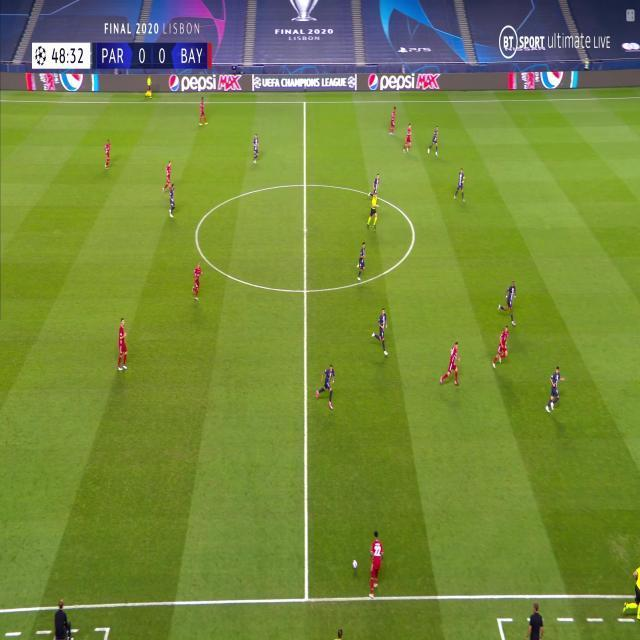ball: (353, 558, 358, 571)
player: (366, 530, 385, 599), (439, 341, 461, 388), (316, 362, 337, 410), (545, 365, 565, 413), (497, 280, 517, 326), (371, 308, 389, 357), (493, 325, 511, 368), (116, 318, 130, 372), (191, 262, 204, 300), (453, 167, 466, 201), (356, 240, 367, 278), (427, 126, 439, 156), (162, 161, 172, 194), (403, 123, 413, 154), (369, 172, 381, 197), (388, 106, 398, 136), (103, 138, 112, 171), (168, 184, 176, 219), (199, 97, 208, 126), (252, 133, 260, 163)
referee: (622, 563, 640, 622), (366, 192, 381, 230), (145, 74, 153, 100)
